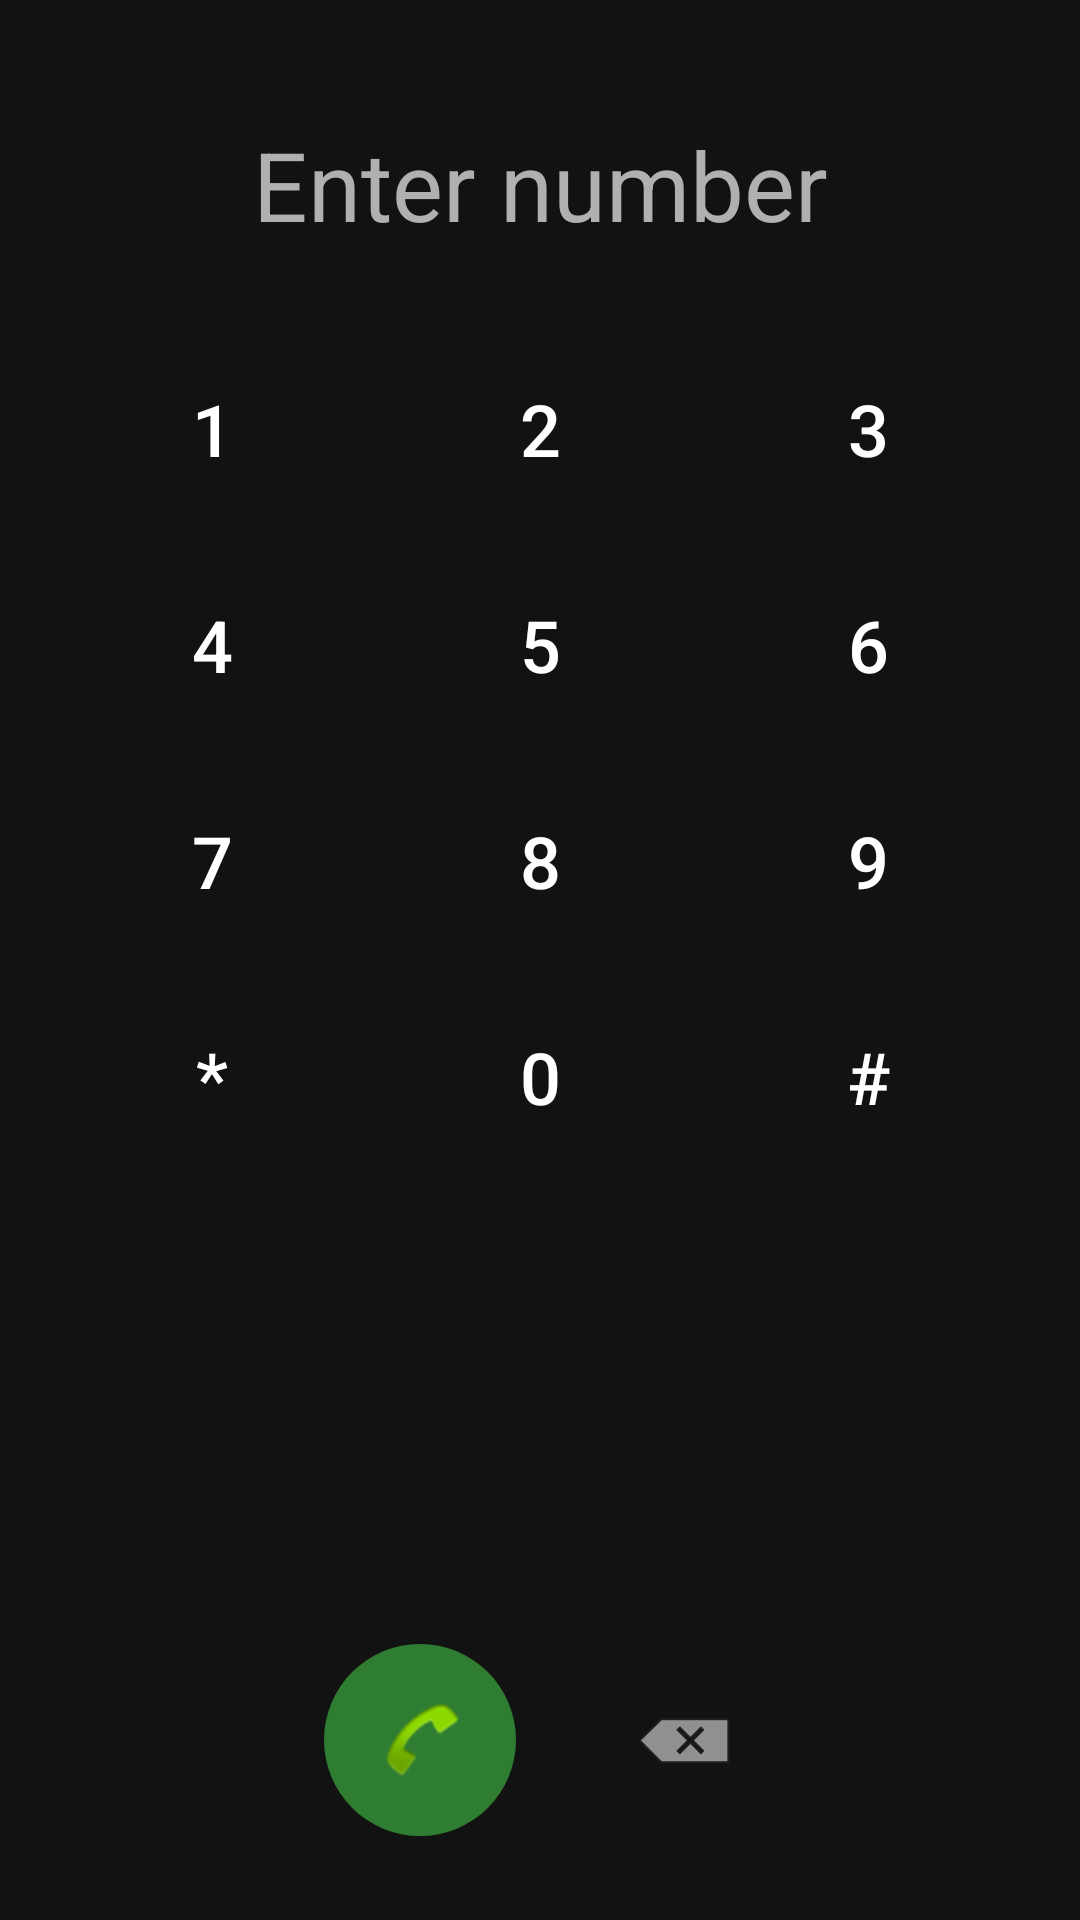

Locate icon controls on the screen. Image size 1080w x 1920h, boxes as (x1, y1, x2, y2).
Call: (324, 1644, 516, 1836)
Delete: (641, 1720, 728, 1762)
